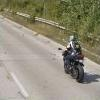Motorcycle: (57, 33, 95, 85)
